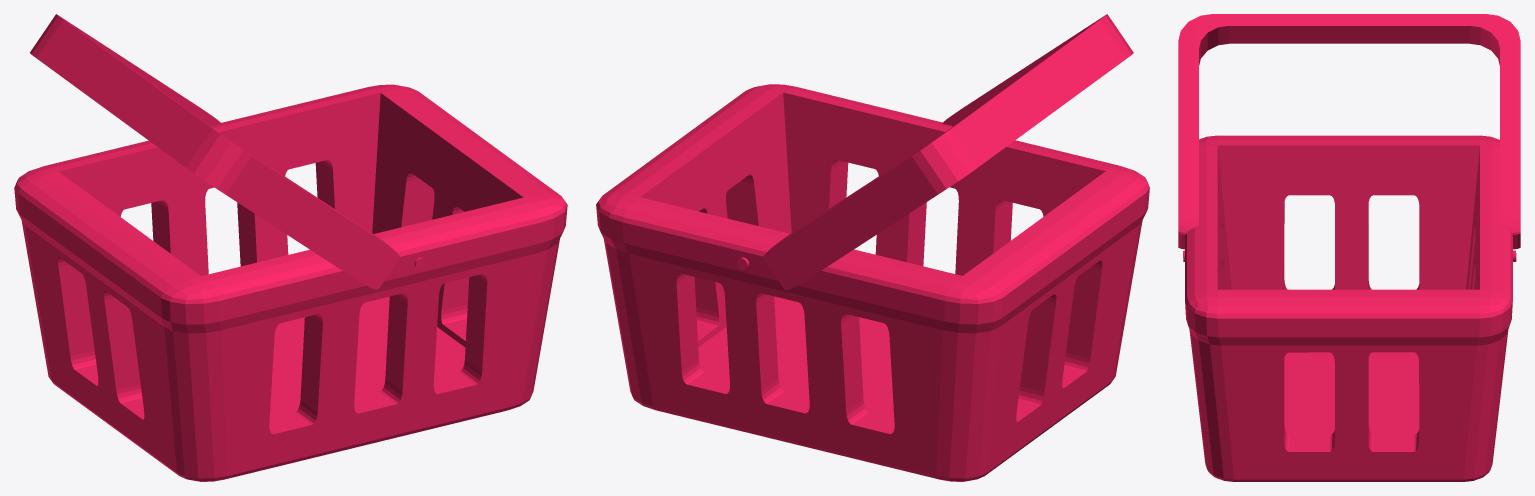
The model's file is basket.glb.
The picture shows the model from 3 angles, left to right: view 1: azimuth 30°, elevation 25°; view 2: azimuth 150°, elevation 25°; view 3: azimuth 270°, elevation 25°; orthographic projection. The views are drawn at different scales.
Parts seen in each view (by area): view 1: Basket_2, Roundcube.002_6, Roundcube.001_3; view 2: Basket_2, Roundcube.002_6, Roundcube.001_3; view 3: Basket_2, Roundcube.002_6, Roundcube.001_3.
Boxes of the visible parts, box(x1,y1,x2,y2) form: Basket_2: box(15, 16, 564, 481); Roundcube.002_6: box(14, 84, 567, 481); Roundcube.001_3: box(30, 14, 399, 289); Basket_2: box(598, 14, 1149, 481); Roundcube.002_6: box(596, 84, 1149, 481); Roundcube.001_3: box(763, 14, 1133, 289); Basket_2: box(1178, 14, 1520, 481); Roundcube.002_6: box(1185, 135, 1512, 481); Roundcube.001_3: box(1178, 14, 1520, 249).
Bounding box in the file's own units: 2.56 × 2.17 × 2.05.
